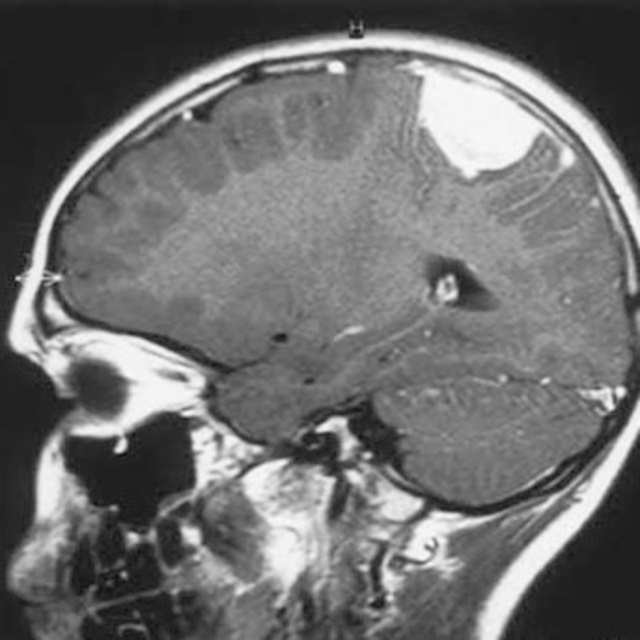meningioma tumor: (399, 63, 558, 197)
